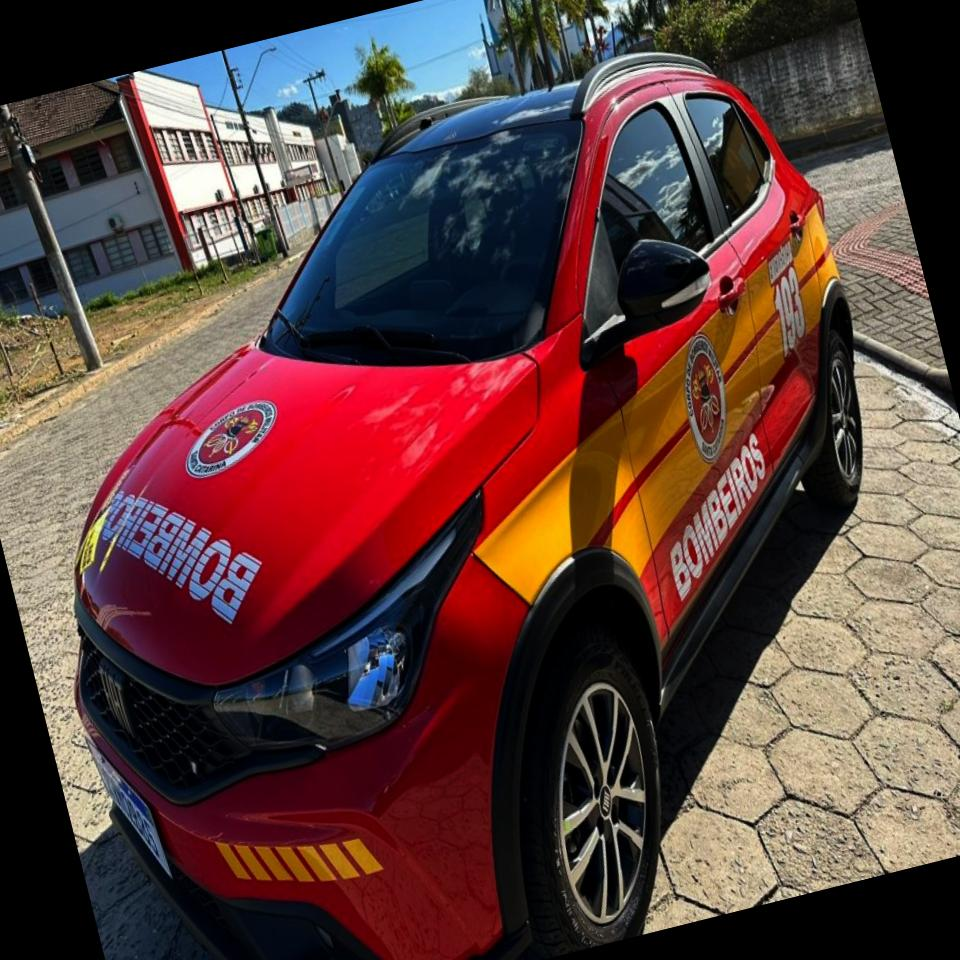viatura: (0, 17, 960, 960)
